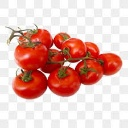tomato: (12, 69, 47, 98), (11, 41, 48, 68), (48, 66, 81, 96), (57, 38, 86, 61), (77, 60, 103, 83), (99, 54, 122, 76), (30, 29, 52, 48), (46, 48, 64, 71), (84, 42, 101, 60), (53, 32, 70, 48)
